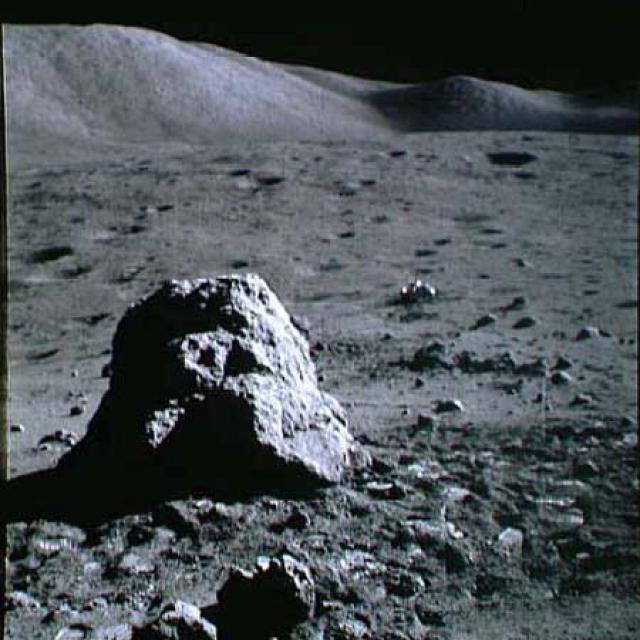artifact: (388, 264, 438, 302)
crater: (15, 252, 96, 284), (11, 238, 78, 265), (466, 148, 534, 172), (90, 219, 150, 238), (236, 172, 290, 190)
rock: (62, 266, 364, 488), (219, 552, 317, 634), (131, 590, 225, 639)
